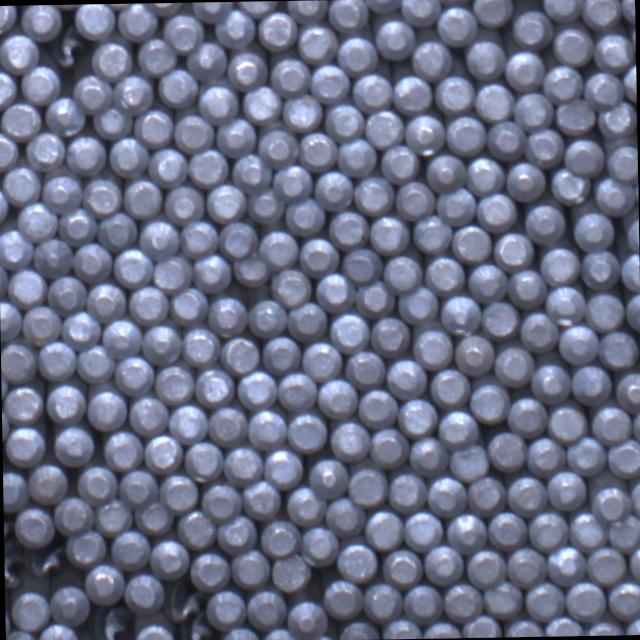tool: (198, 82, 240, 124), (142, 323, 184, 364), (46, 95, 88, 136), (67, 132, 108, 174), (140, 218, 181, 260), (594, 174, 635, 216), (190, 549, 231, 590), (330, 420, 371, 461), (445, 511, 486, 552), (572, 364, 613, 405), (441, 293, 482, 334), (324, 578, 365, 619), (471, 381, 512, 422), (45, 381, 86, 422), (408, 434, 449, 475), (406, 113, 446, 155), (126, 572, 166, 614), (446, 114, 486, 156), (28, 462, 68, 504), (109, 137, 149, 179), (5, 426, 47, 466), (132, 106, 174, 146), (528, 510, 570, 550), (214, 6, 256, 46), (428, 474, 468, 516), (308, 456, 348, 498), (207, 294, 247, 336), (164, 183, 206, 223), (300, 238, 342, 278), (216, 117, 258, 157), (208, 404, 248, 446), (504, 49, 544, 91), (112, 72, 154, 112), (425, 152, 467, 192), (13, 506, 54, 546), (114, 247, 154, 288), (508, 396, 548, 437), (412, 328, 453, 368), (530, 362, 570, 403), (369, 427, 409, 468), (262, 446, 302, 487), (205, 589, 246, 629), (454, 333, 494, 374), (248, 408, 288, 449), (330, 310, 370, 351), (565, 436, 606, 476), (77, 464, 118, 504), (287, 486, 327, 527), (558, 323, 598, 364), (84, 564, 124, 605), (525, 580, 566, 620), (148, 146, 188, 187), (404, 509, 444, 550), (546, 285, 586, 326), (386, 357, 426, 398), (257, 128, 298, 168), (374, 18, 415, 58), (437, 6, 478, 46), (41, 171, 82, 211), (54, 427, 94, 468), (297, 22, 337, 63), (573, 209, 613, 250), (50, 583, 90, 624), (287, 598, 328, 638), (424, 545, 464, 585), (364, 108, 404, 148), (18, 200, 58, 240), (20, 64, 60, 104), (156, 364, 196, 404), (486, 120, 526, 160), (370, 215, 410, 255), (310, 62, 350, 102), (168, 402, 208, 442), (542, 64, 582, 104), (566, 580, 606, 620), (364, 508, 404, 548), (33, 236, 73, 276), (315, 168, 355, 208), (595, 33, 635, 73), (546, 469, 586, 509), (476, 191, 516, 231), (158, 68, 198, 108), (74, 243, 114, 283), (506, 160, 546, 200), (110, 528, 150, 568), (338, 136, 378, 176), (318, 378, 358, 418), (302, 340, 342, 380), (359, 388, 399, 428), (380, 142, 420, 182), (102, 430, 142, 470), (506, 475, 546, 515), (412, 40, 452, 80), (338, 542, 378, 582), (36, 339, 76, 379), (300, 526, 340, 566), (363, 582, 403, 622), (88, 390, 128, 430), (396, 180, 436, 220), (468, 547, 508, 587), (246, 588, 286, 628), (368, 317, 408, 357), (508, 546, 548, 586), (468, 262, 508, 302), (403, 582, 443, 622), (88, 280, 128, 320), (288, 411, 328, 451), (354, 175, 394, 215), (526, 435, 566, 475), (244, 84, 284, 124), (48, 274, 88, 314), (116, 355, 156, 395), (286, 301, 326, 341), (277, 372, 317, 412), (228, 50, 268, 90), (569, 510, 609, 550), (128, 396, 168, 436), (547, 544, 587, 584), (466, 38, 506, 78), (216, 513, 256, 553), (230, 548, 270, 588), (314, 270, 354, 310), (100, 210, 140, 250), (524, 202, 564, 242), (102, 316, 142, 356), (579, 250, 619, 290), (284, 196, 324, 236), (163, 13, 204, 52), (599, 329, 640, 368), (548, 402, 589, 441), (283, 92, 324, 131), (185, 441, 224, 482), (437, 408, 478, 447), (116, 2, 158, 40), (66, 528, 108, 566), (298, 130, 337, 170), (348, 467, 388, 506), (152, 254, 192, 293), (493, 231, 533, 270), (128, 284, 168, 323), (258, 9, 298, 48), (22, 304, 61, 344), (388, 472, 427, 512), (384, 547, 424, 586), (586, 292, 626, 331), (540, 245, 580, 284), (431, 368, 471, 407), (193, 252, 232, 292), (592, 405, 632, 444), (496, 346, 535, 386), (444, 581, 484, 620), (437, 187, 477, 226), (160, 472, 199, 512), (173, 114, 213, 153), (195, 364, 234, 404), (474, 82, 514, 121), (550, 165, 590, 204), (8, 267, 48, 306), (324, 102, 364, 141), (178, 219, 218, 258), (176, 508, 216, 547), (62, 310, 102, 349), (508, 267, 547, 307), (516, 93, 556, 132), (520, 312, 559, 352), (124, 179, 164, 218), (433, 72, 473, 111), (55, 495, 95, 534), (237, 369, 277, 408), (144, 434, 183, 474), (552, 25, 592, 64), (72, 72, 112, 111), (272, 552, 312, 591), (225, 445, 265, 484), (258, 229, 298, 268), (152, 538, 190, 579), (488, 431, 526, 472), (351, 71, 392, 109), (582, 69, 623, 107), (186, 40, 227, 78), (0, 31, 39, 70), (399, 398, 438, 437), (59, 206, 98, 245), (598, 99, 637, 138), (76, 343, 115, 382), (0, 101, 40, 139), (271, 268, 311, 306), (330, 209, 370, 247), (10, 588, 48, 628), (92, 40, 132, 78), (336, 36, 376, 74), (566, 138, 606, 176), (202, 482, 242, 520), (586, 546, 626, 584), (426, 256, 466, 294), (449, 442, 489, 480), (394, 75, 434, 113), (188, 149, 228, 187), (248, 298, 286, 338), (181, 326, 219, 366), (242, 478, 280, 518), (270, 56, 310, 94), (484, 580, 524, 618), (274, 162, 314, 200), (412, 215, 452, 253), (327, 496, 367, 534), (399, 286, 439, 324), (354, 278, 394, 316), (232, 152, 272, 190), (137, 37, 176, 75), (1, 166, 40, 204), (467, 158, 506, 196), (525, 128, 563, 167), (207, 182, 246, 220), (169, 286, 208, 324), (27, 132, 66, 170), (383, 255, 422, 293), (261, 517, 300, 555), (263, 335, 302, 373), (467, 476, 506, 514), (512, 10, 551, 48), (452, 225, 492, 262), (222, 335, 262, 372), (345, 348, 385, 385), (555, 96, 596, 132), (589, 485, 630, 521), (84, 178, 122, 216), (482, 300, 520, 338), (0, 342, 37, 381), (246, 187, 285, 224), (487, 512, 527, 548), (120, 467, 160, 503), (342, 248, 382, 284), (232, 253, 272, 289), (94, 498, 133, 534), (3, 384, 42, 420), (20, 5, 60, 40), (220, 220, 258, 256), (135, 499, 174, 534), (76, 4, 116, 38), (0, 228, 34, 268), (607, 436, 640, 477), (94, 104, 132, 138), (608, 581, 640, 620), (609, 512, 640, 551), (328, 0, 368, 30), (608, 144, 638, 181), (472, 0, 513, 26), (3, 471, 28, 512), (402, 0, 441, 26), (616, 368, 640, 409), (581, 0, 620, 25), (462, 614, 501, 638), (286, 0, 328, 22), (0, 299, 22, 340), (192, 1, 234, 22), (339, 619, 381, 640), (542, 0, 583, 20), (383, 618, 422, 639), (546, 616, 584, 636), (620, 252, 640, 290), (505, 618, 545, 637), (37, 622, 76, 640), (423, 620, 462, 638), (135, 622, 174, 640), (624, 206, 639, 252), (0, 131, 18, 169), (235, 1, 279, 16), (586, 620, 626, 636), (0, 68, 16, 107), (142, 2, 188, 15), (221, 626, 262, 640), (622, 62, 636, 102), (626, 292, 640, 331), (261, 626, 300, 640), (629, 474, 640, 520), (365, 0, 403, 12), (629, 543, 640, 582), (0, 5, 15, 31), (5, 629, 36, 640), (0, 262, 8, 302), (0, 179, 7, 224), (632, 407, 640, 446), (620, 0, 634, 21), (626, 616, 640, 634), (1, 368, 8, 401), (2, 408, 8, 442)
tool_b: (89, 606, 132, 640), (164, 586, 203, 623), (51, 30, 87, 68), (28, 544, 64, 580), (177, 615, 216, 640), (4, 546, 27, 588)
